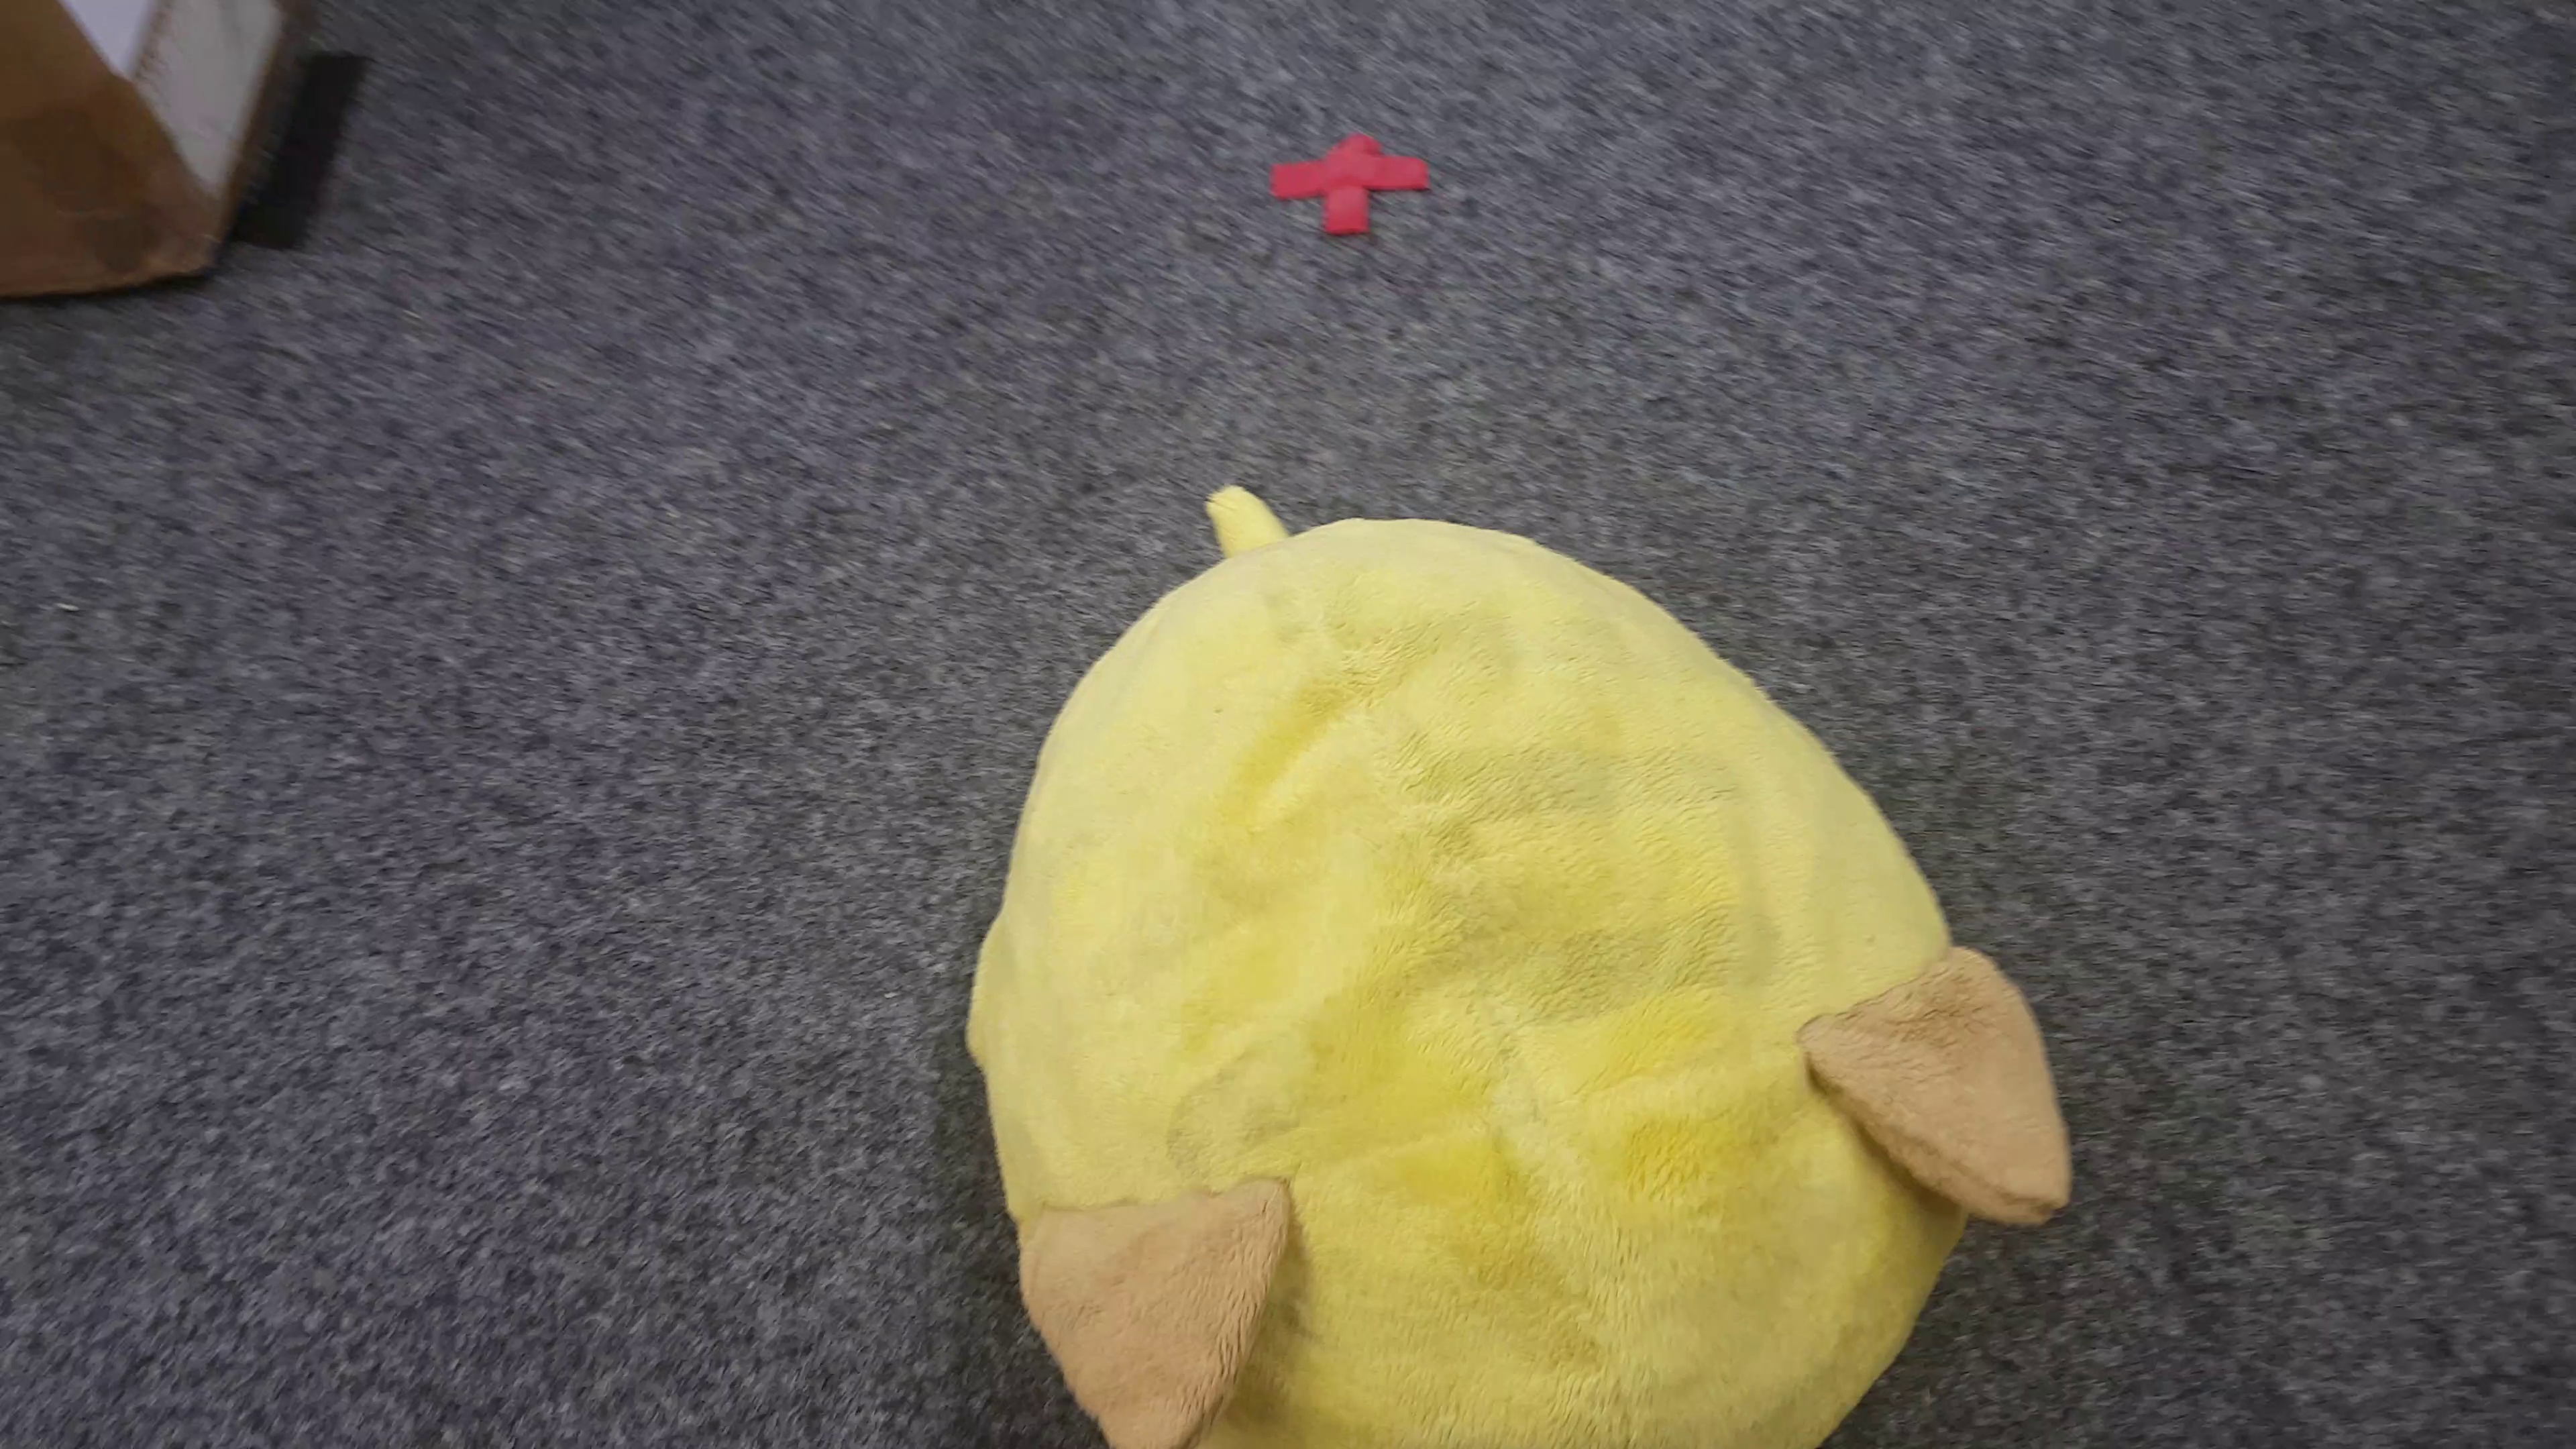grasp: (971, 490, 2068, 1449)
